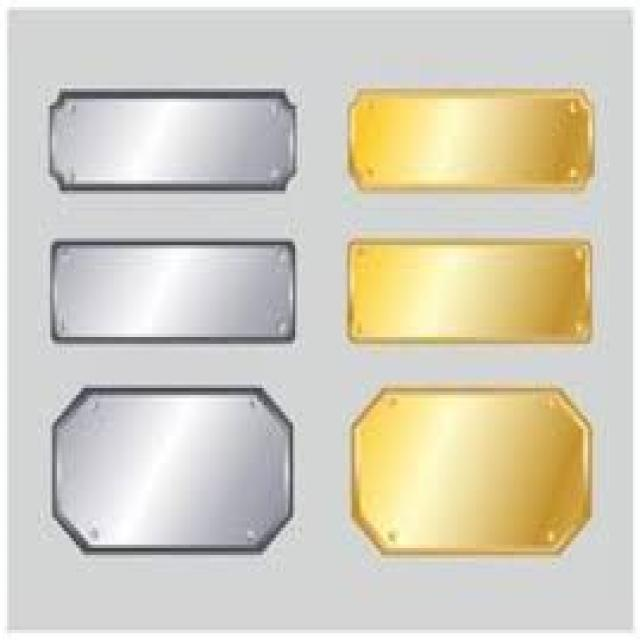Dry: (50, 385, 297, 558), (52, 238, 300, 347), (52, 89, 297, 197)
